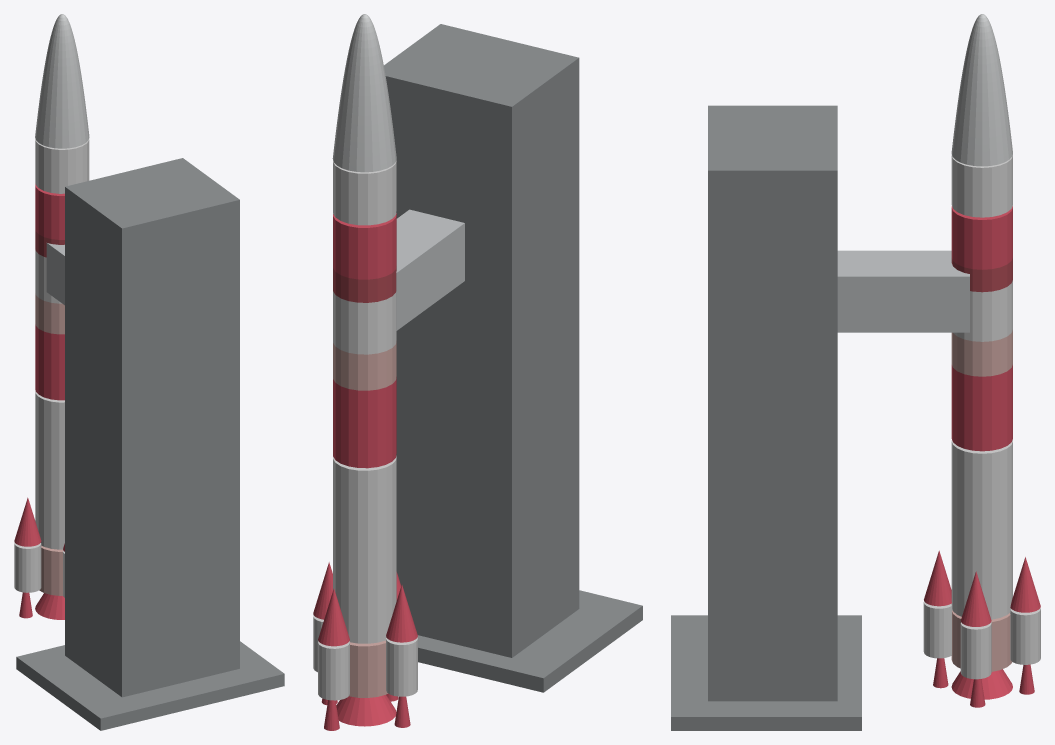
Rendered from Fantabulous Fyyran.glb.
3 views of the same model, side by side, from view 1: azimuth 30°, elevation 25°; view 2: azimuth 150°, elevation 25°; view 3: azimuth 270°, elevation 25° (orthographic). The views are drawn at different scales.
Visible parts, largest first — view 1: Mesh_Mesh_head_geo.001_lambert2SG.001; view 2: Mesh_Mesh_head_geo.001_lambert2SG.001; view 3: Mesh_Mesh_head_geo.001_lambert2SG.001.
Boxes of the visible parts, left/top/right/bottom form: Mesh_Mesh_head_geo.001_lambert2SG.001: left=14, top=14, right=284, bottom=730; Mesh_Mesh_head_geo.001_lambert2SG.001: left=313, top=14, right=642, bottom=730; Mesh_Mesh_head_geo.001_lambert2SG.001: left=671, top=14, right=1040, bottom=730.
Size of the model in its own units: 78 by 241 by 120.
